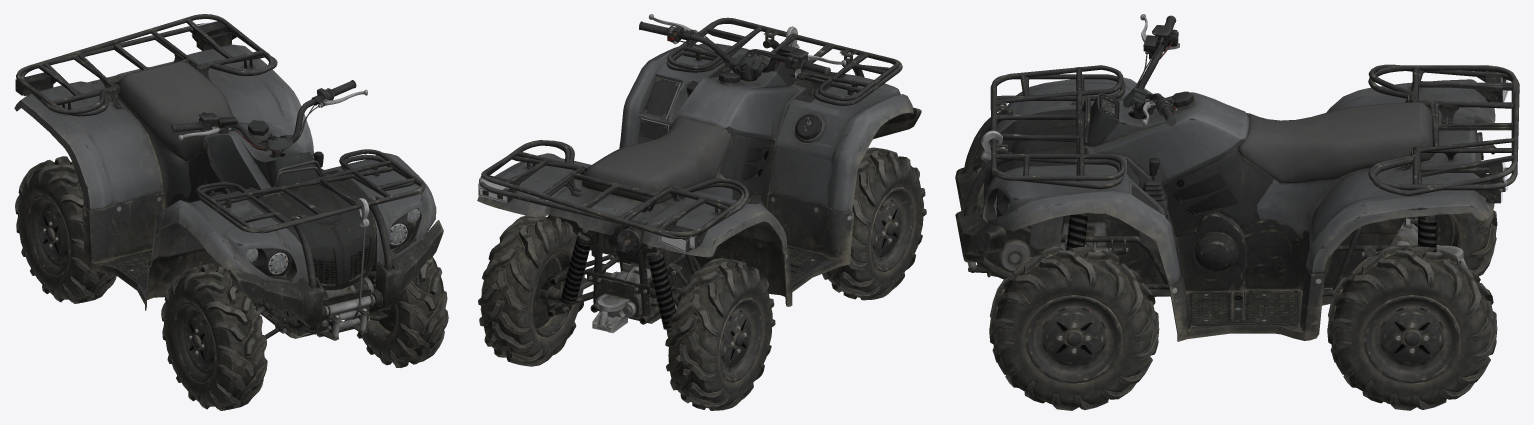
The model's file is VEH_Quadbike.glb.
3 renders of one model, left to right at view 1: azimuth 30°, elevation 25°; view 2: azimuth 150°, elevation 25°; view 3: azimuth 270°, elevation 25°, orthographic. The views are drawn at different scales.
Visible parts, largest first — view 1: ob_veh_car_quadbike_base_s0, ob_veh_car_quadbike_wheelright_s0_p0, ob_veh_car_quadbike_wheelright_s0_p1, ob_veh_car_quadbike_wheelleft_s0_p0, ob_veh_car_quadbike_base_s3, ob_veh_car_quadbike_base_s1; view 2: ob_veh_car_quadbike_base_s0, ob_veh_car_quadbike_wheelright_s0_p1, ob_veh_car_quadbike_wheelleft_s0_p1, ob_veh_car_quadbike_wheelright_s0_p0, ob_veh_car_quadbike_base_s1; view 3: ob_veh_car_quadbike_base_s0, ob_veh_car_quadbike_wheelleft_s0_p0, ob_veh_car_quadbike_wheelleft_s0_p1, ob_veh_car_quadbike_wheelright_s0_p1.
Boxes of the visible parts, left/top/right/bottom form: ob_veh_car_quadbike_base_s0: left=14, top=14, right=443, bottom=340; ob_veh_car_quadbike_wheelright_s0_p0: left=161, top=263, right=267, bottom=410; ob_veh_car_quadbike_wheelright_s0_p1: left=15, top=156, right=116, bottom=303; ob_veh_car_quadbike_wheelleft_s0_p0: left=357, top=241, right=448, bottom=367; ob_veh_car_quadbike_base_s3: left=245, top=208, right=419, bottom=273; ob_veh_car_quadbike_base_s1: left=15, top=20, right=419, bottom=272; ob_veh_car_quadbike_base_s0: left=477, top=14, right=921, bottom=337; ob_veh_car_quadbike_wheelright_s0_p1: left=665, top=258, right=775, bottom=410; ob_veh_car_quadbike_wheelleft_s0_p1: left=478, top=214, right=587, bottom=366; ob_veh_car_quadbike_wheelright_s0_p0: left=822, top=147, right=926, bottom=300; ob_veh_car_quadbike_base_s1: left=478, top=177, right=694, bottom=251; ob_veh_car_quadbike_base_s0: left=955, top=14, right=1519, bottom=341; ob_veh_car_quadbike_wheelleft_s0_p0: left=989, top=246, right=1159, bottom=410; ob_veh_car_quadbike_wheelleft_s0_p1: left=1327, top=246, right=1497, bottom=410; ob_veh_car_quadbike_wheelright_s0_p1: left=1436, top=210, right=1497, bottom=276.
Size of the model in its own units: 1.31 by 1.38 by 2.4.
Materials: 4 (3 with a texture image).
